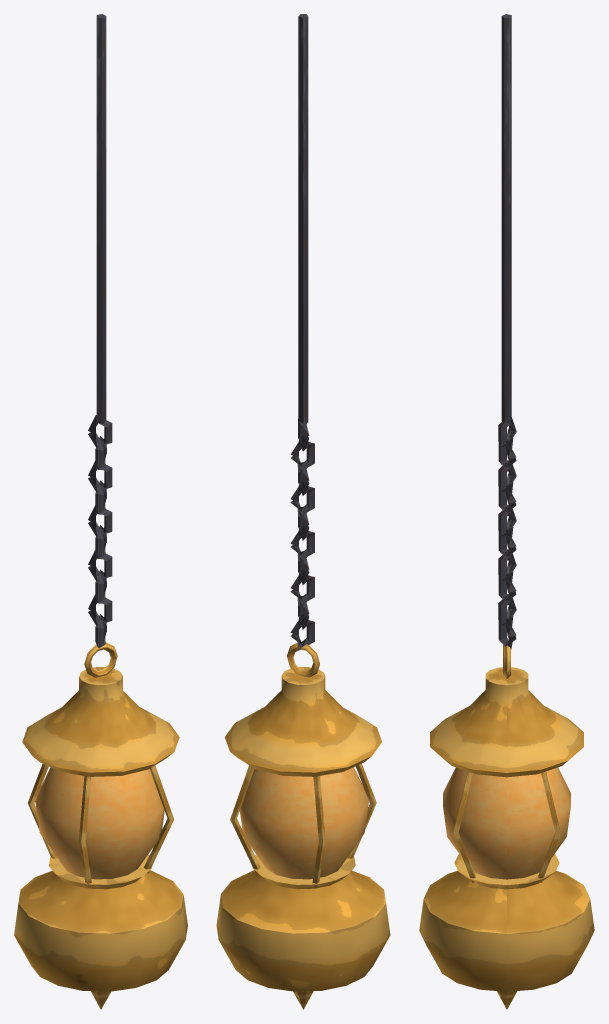
The model's file is Lamp_Oil.fbx.
3 renders of one model, left to right at view 1: azimuth 30°, elevation 25°; view 2: azimuth 150°, elevation 25°; view 3: azimuth 270°, elevation 25°, orthographic.
Visible parts, largest first — view 1: Lamp_Oil; view 2: Lamp_Oil; view 3: Lamp_Oil.
Part boxes in pixels (x1,y1,x2,y2): Lamp_Oil: (14, 14, 187, 1009); Lamp_Oil: (216, 14, 390, 1009); Lamp_Oil: (419, 14, 594, 1009).
Size of the model in its own units: 0.4 by 2.5 by 0.4.
2 materials, 2 textured.
